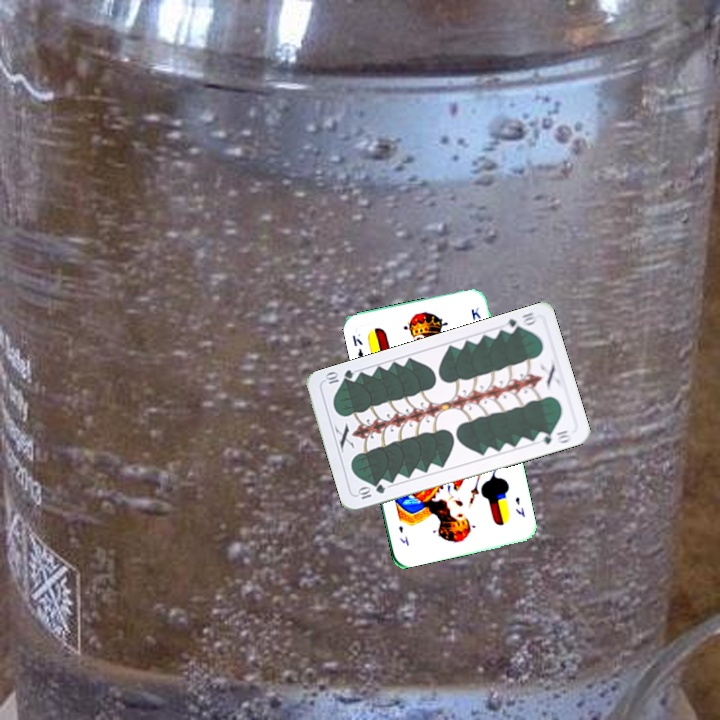EK: (348, 331, 366, 360), (511, 493, 528, 520)
G10: (499, 308, 540, 336), (354, 480, 388, 502)
